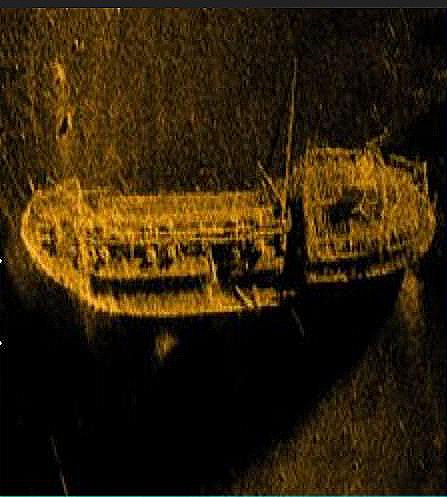ship: (17, 57, 438, 333)
